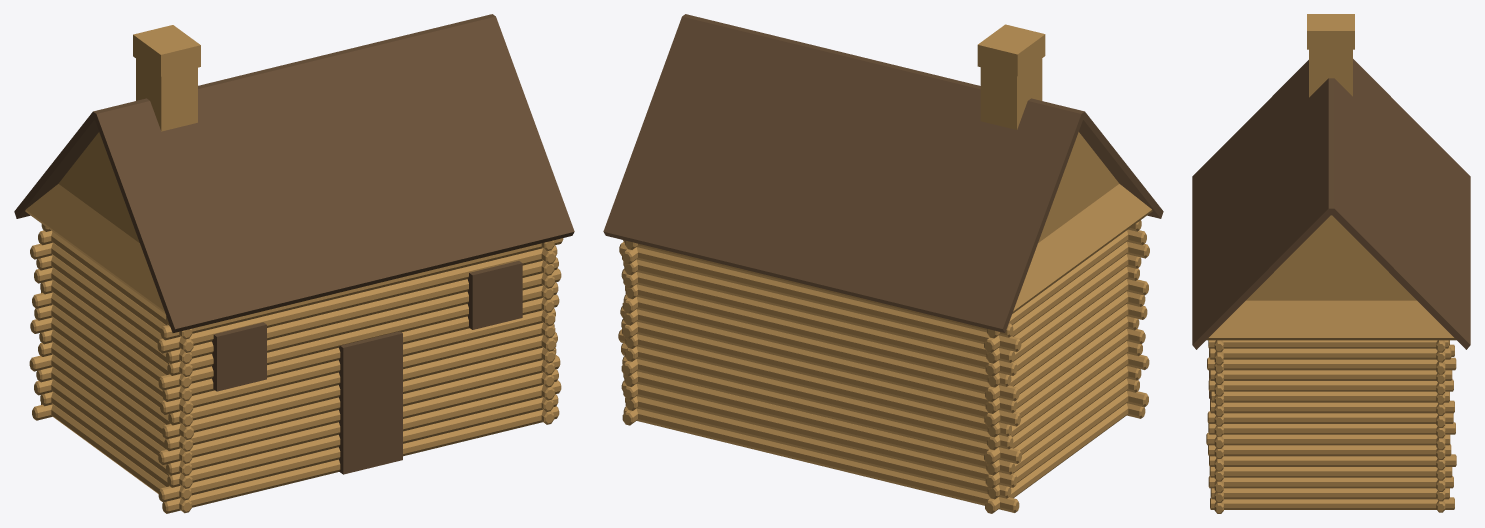
File: smallHouse1.fbx
3 views of the same model, side by side, from view 1: azimuth 30°, elevation 25°; view 2: azimuth 150°, elevation 25°; view 3: azimuth 270°, elevation 25° (orthographic). The views are drawn at different scales.
Parts seen in each view (by area): view 1: Object; view 2: Object; view 3: Object.
Boxes of the visible parts, box(x1,y1,x2,y2) form: Object: box(14, 14, 574, 513); Object: box(603, 14, 1163, 513); Object: box(1192, 14, 1470, 513).
Size of the model in its own units: 4231 by 4124 by 2934.
